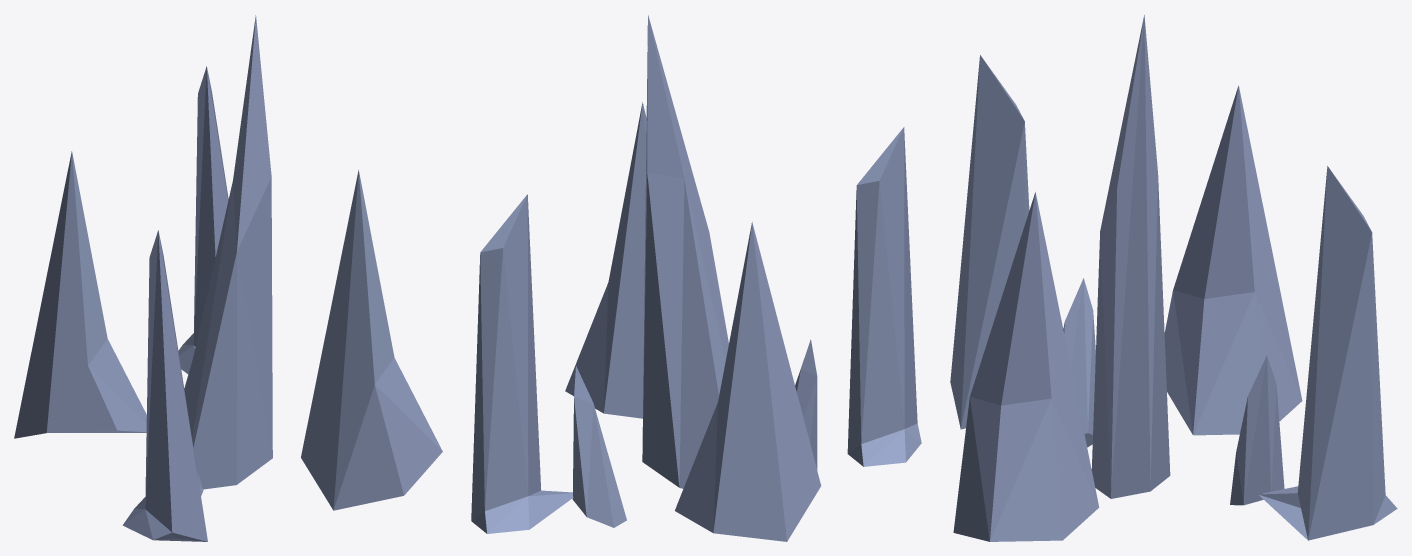
File: thorn_ice.FBX
3 views of the same model, side by side, from view 1: azimuth 30°, elevation 25°; view 2: azimuth 150°, elevation 25°; view 3: azimuth 270°, elevation 25° (orthographic). The views are drawn at different scales.
Visible parts, largest first — view 1: rock002; view 2: rock002; view 3: rock002.
Boxes of the visible parts, x1=… form: rock002: x1=14, y1=15, x2=442, y2=541; rock002: x1=471, y1=15, x2=921, y2=541; rock002: x1=950, y1=15, x2=1397, y2=541.
Size of the model in its own units: 26.99 by 37.77 by 30.45.
